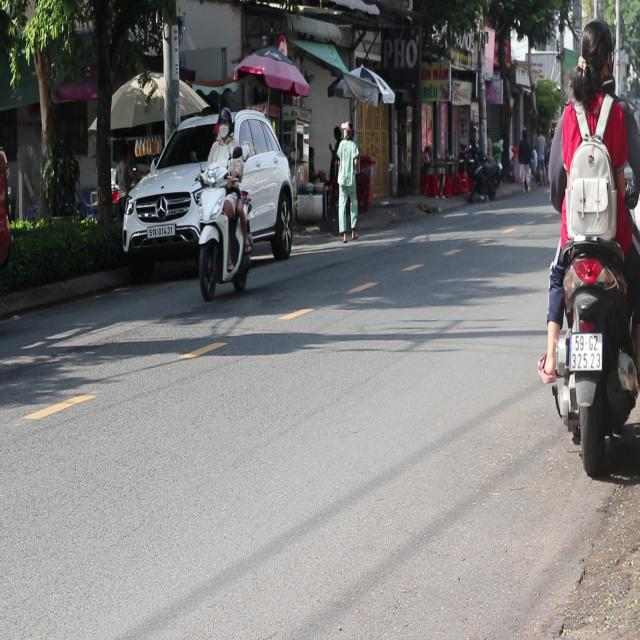helmet: (215, 106, 232, 140)
licenseplate: (535, 13, 640, 481), (194, 104, 252, 300)
motorcyclist: (576, 17, 616, 94)
nohelmet: (570, 333, 601, 369)
